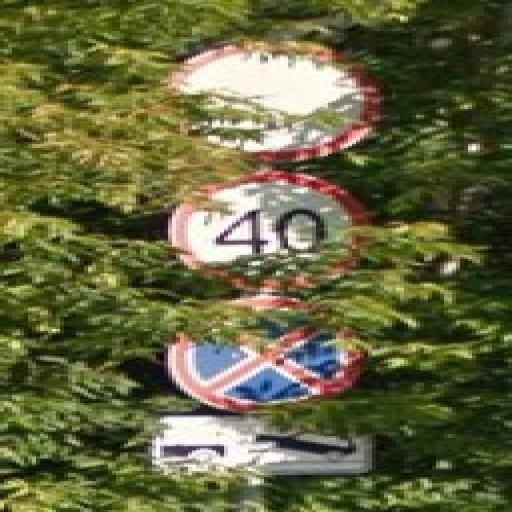traffic_sign: (157, 38, 377, 163), (165, 170, 373, 295), (169, 297, 365, 414)
